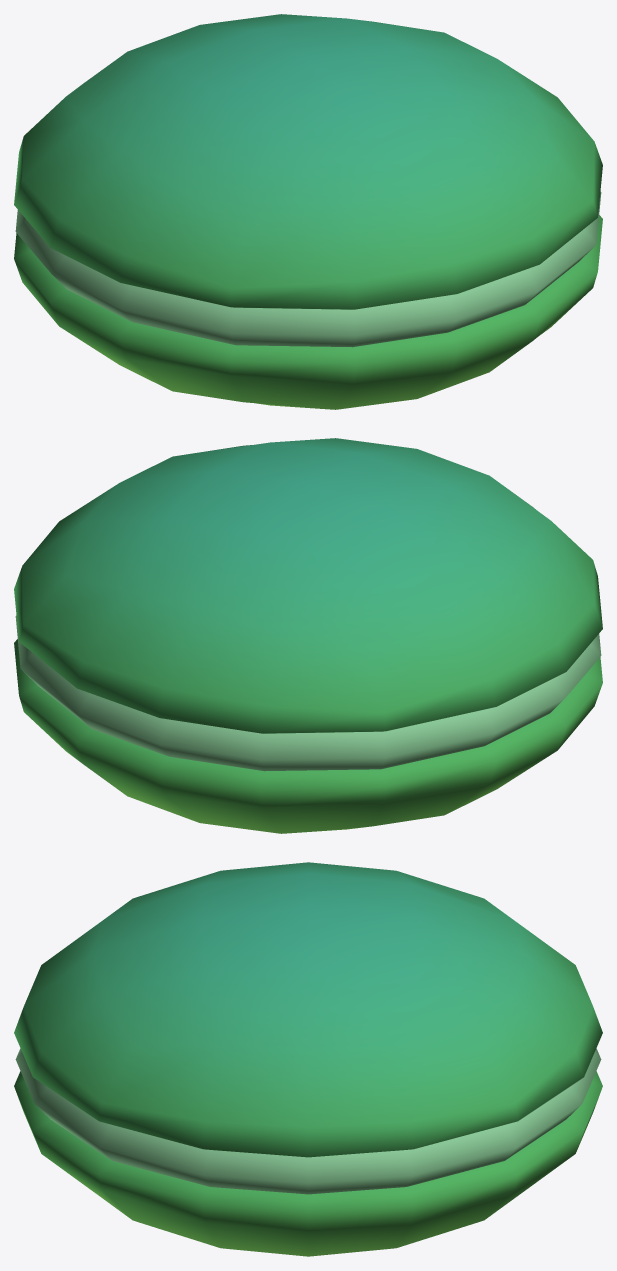
File: cookie_010.fbx
The picture shows the model from 3 angles, top to bottom: view 1: azimuth 30°, elevation 25°; view 2: azimuth 150°, elevation 25°; view 3: azimuth 270°, elevation 25°; orthographic projection.
Visible parts, largest first — view 1: cookie_010; view 2: cookie_010; view 3: cookie_010.
Boxes of the visible parts, <box> form: cookie_010: <box>14,14,602,409</box>; cookie_010: <box>14,438,602,833</box>; cookie_010: <box>14,862,602,1256</box>.
Size of the model in its own units: 5.37 by 5.37 by 3.02.
